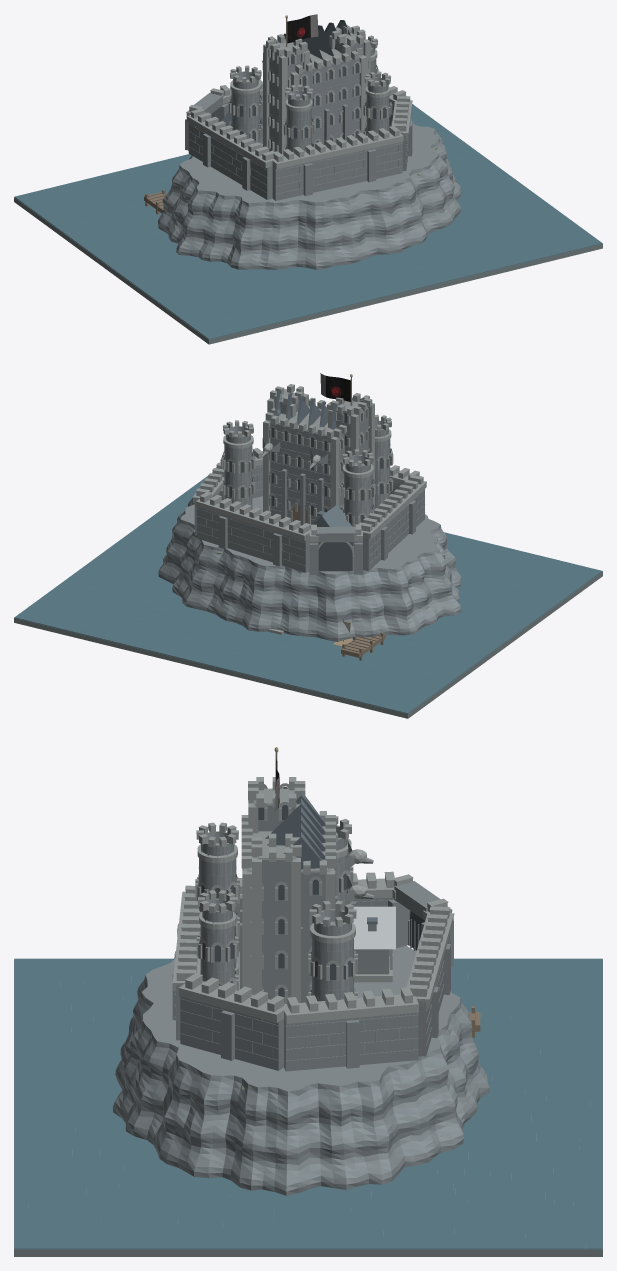
Rendered from dragonstone.glb.
3 views of the same model, one above another, from view 1: azimuth 30°, elevation 25°; view 2: azimuth 150°, elevation 25°; view 3: azimuth 270°, elevation 25° (orthographic). The views are drawn at different scales.
Visible parts, largest first — view 1: دراگوناستون; view 2: دراگوناستون; view 3: دراگوناستون.
Part boxes in pixels (bbox=[...]): دراگوناستون: bbox=[14, 14, 602, 344]; دراگوناستون: bbox=[14, 373, 602, 718]; دراگوناستون: bbox=[14, 747, 602, 1256].
Size of the model in its own units: 14.01 by 7.67 by 12.
Materials: 2 (1 with a texture image).
